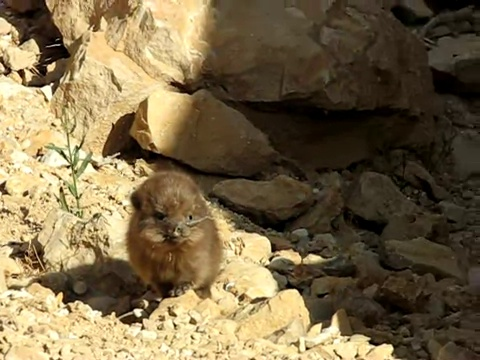Rock Hyrex: (127, 171, 224, 301)
